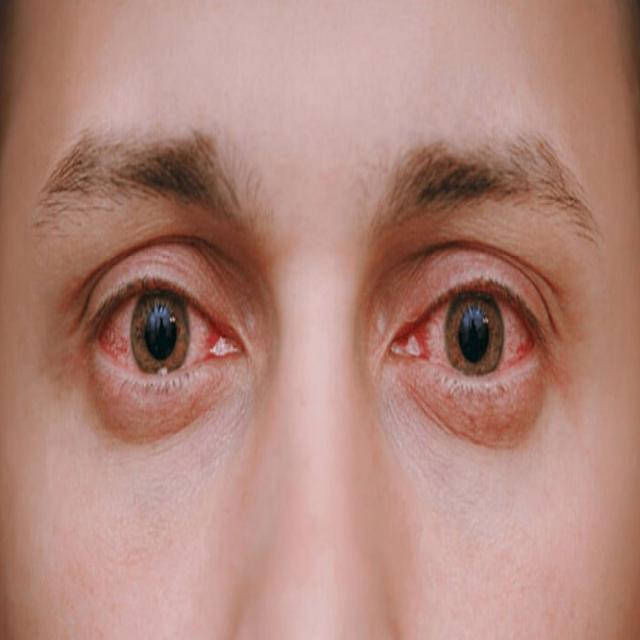open: (22, 112, 290, 458), (355, 117, 610, 454)
